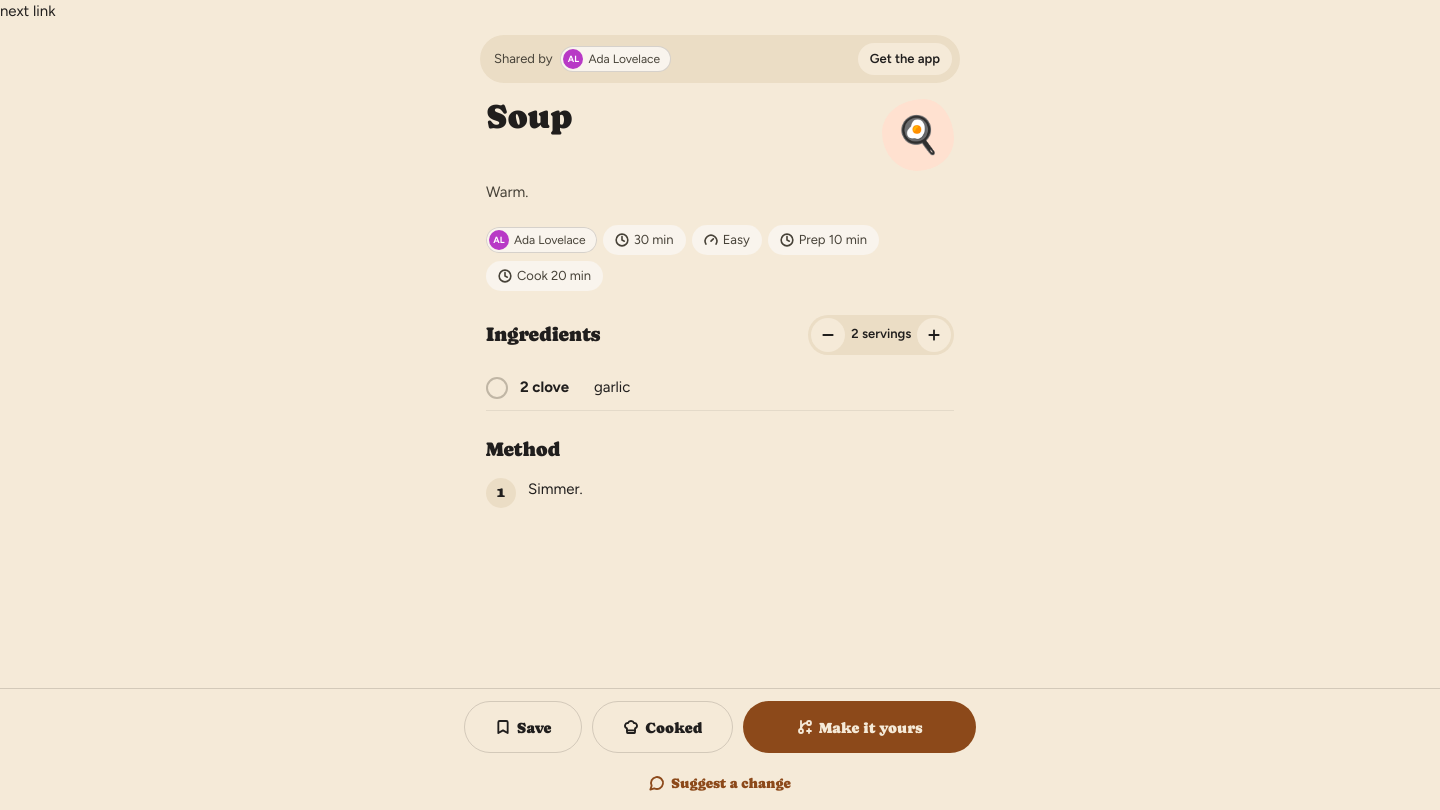
Test: SharedRecipePage /shared/:id › signed out, Save opens the sign-in sheet and writes nothing
Step 1. Click the button "Save" → x=523, y=727, box [464,701,582,753]
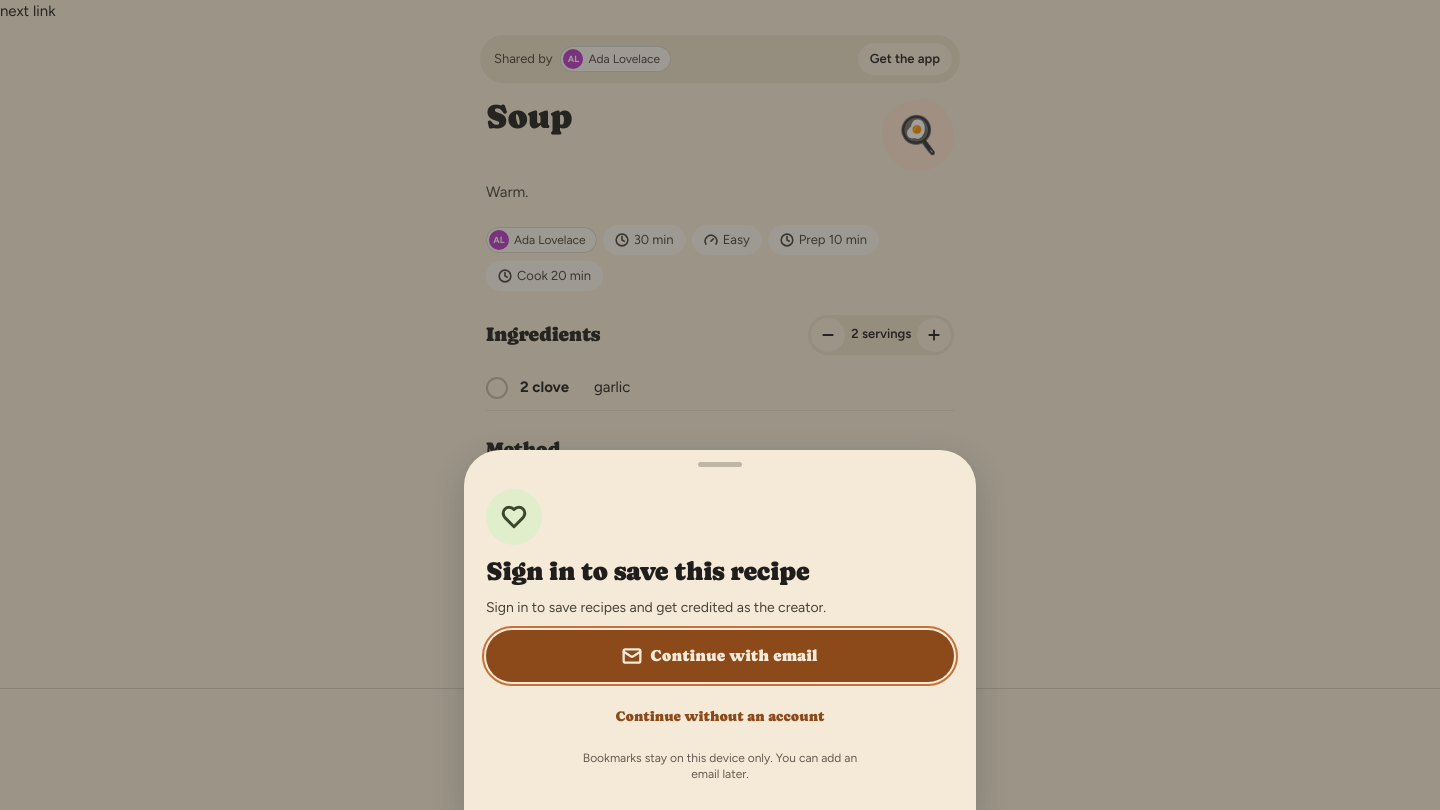
Expected: the dialog "Sign in to save this recipe" is shown, [464,450,976,809]
